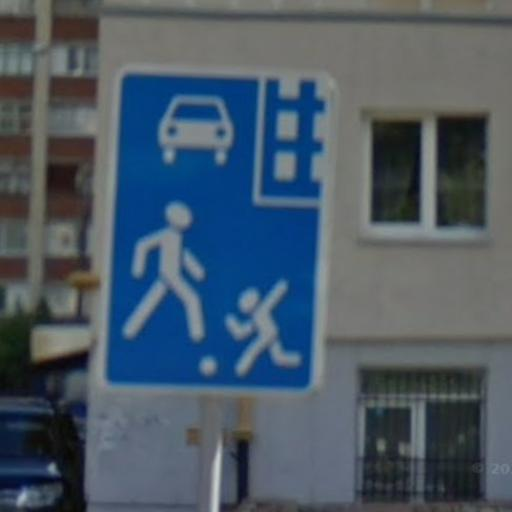traffic_sign: (96, 63, 339, 402)
